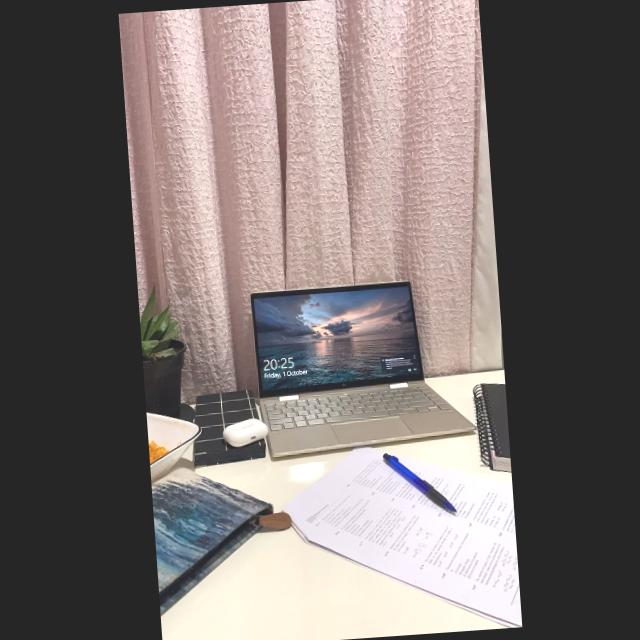laptop: (250, 281, 474, 456)
